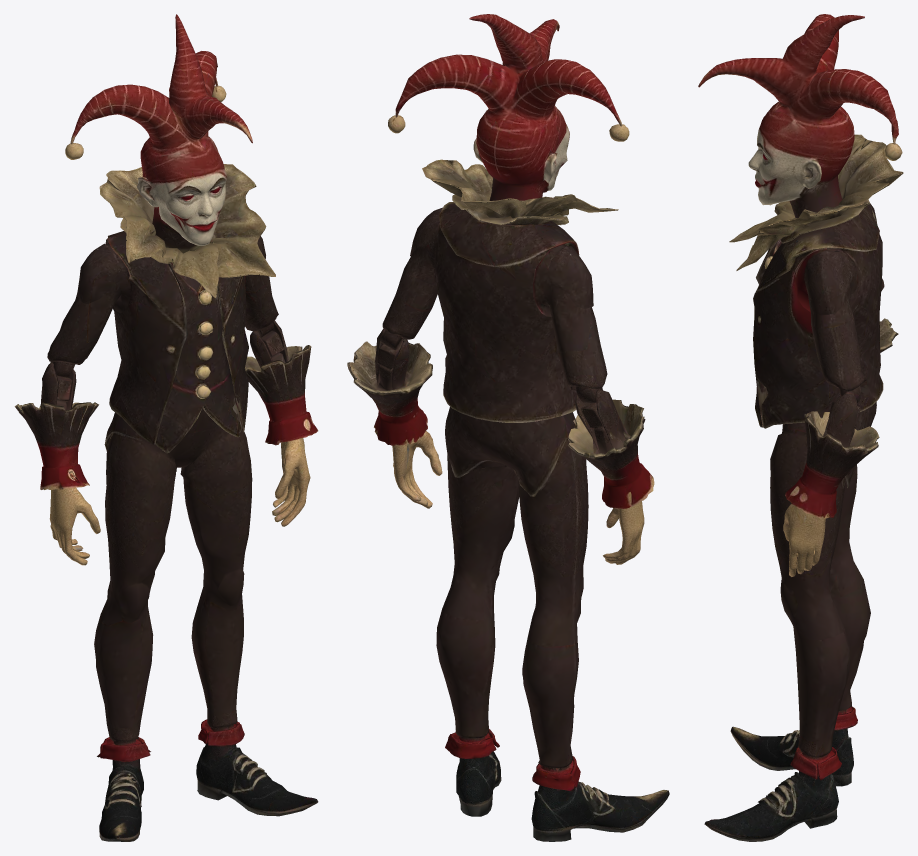
Rendered from jester.glb.
3 renders of one model, left to right at view 1: azimuth 30°, elevation 25°; view 2: azimuth 150°, elevation 25°; view 3: azimuth 270°, elevation 25°, orthographic. The views are drawn at different scales.
Parts seen in each view (by area): view 1: midway-fit; view 2: midway-fit; view 3: midway-fit.
Boxes of the visible parts, left/top/right/bottom form: midway-fit: left=14, top=14, right=318, bottom=841; midway-fit: left=347, top=14, right=669, bottom=841; midway-fit: left=698, top=14, right=903, bottom=841.
Size of the model in its own units: 0.3835 by 1 by 0.2346.
Materials: 1 (1 with a texture image).
